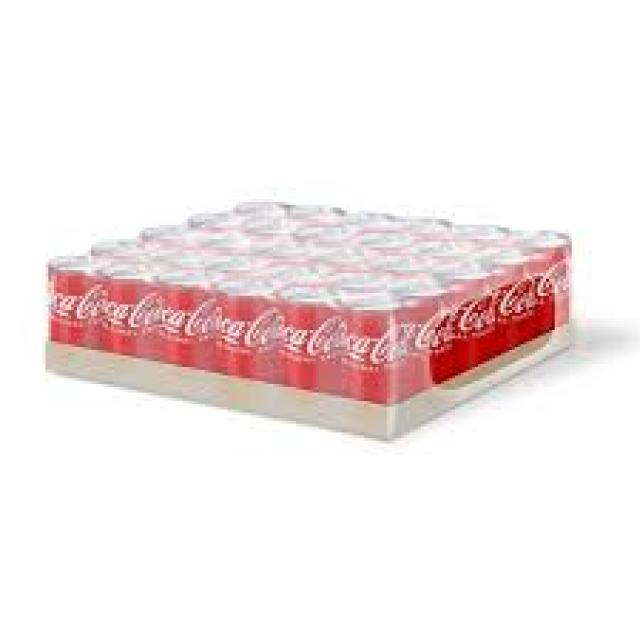Coca-Cola: (280, 279, 336, 433), (38, 246, 98, 386), (222, 282, 280, 416), (156, 264, 213, 400), (447, 261, 500, 407), (347, 296, 397, 448), (98, 262, 154, 395), (400, 283, 450, 428), (530, 230, 578, 354), (492, 249, 536, 380)
